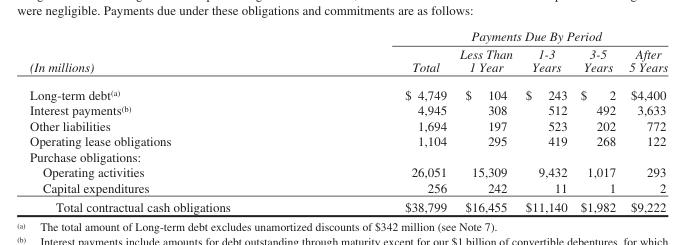table: (29, 28, 667, 213)
table column: (29, 28, 317, 213), (317, 28, 452, 213), (452, 28, 518, 213), (518, 28, 573, 213), (573, 28, 621, 213), (621, 28, 667, 213)
table column header: (29, 28, 667, 80)
table projected row header: (29, 148, 667, 163)
table row: (29, 45, 667, 80), (29, 80, 667, 101), (29, 28, 667, 45), (29, 179, 667, 196), (29, 196, 667, 213), (29, 101, 667, 117), (29, 132, 667, 148), (29, 163, 667, 179), (29, 117, 667, 132), (29, 148, 667, 163)
table spanning cell: (29, 28, 317, 80), (317, 28, 667, 45)
